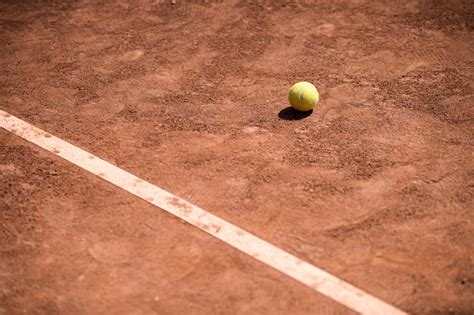tennis_ball: (288, 81, 319, 112)
